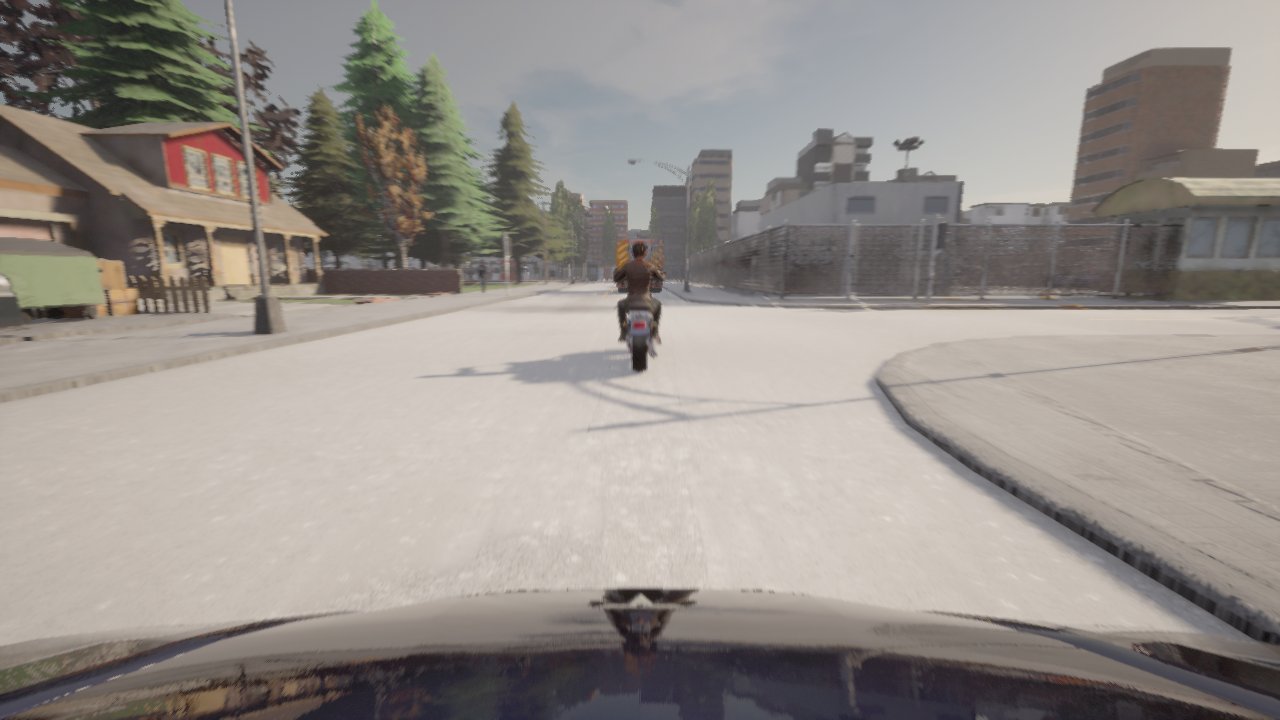cyclist: (0, 588, 1279, 719), (614, 269, 665, 372), (617, 231, 662, 291), (1029, 265, 1085, 286), (1066, 267, 1108, 288), (1000, 270, 1043, 285), (1052, 270, 1083, 287), (954, 272, 999, 283), (967, 270, 999, 283), (954, 265, 982, 277)
pedestrian: (477, 260, 487, 293)
